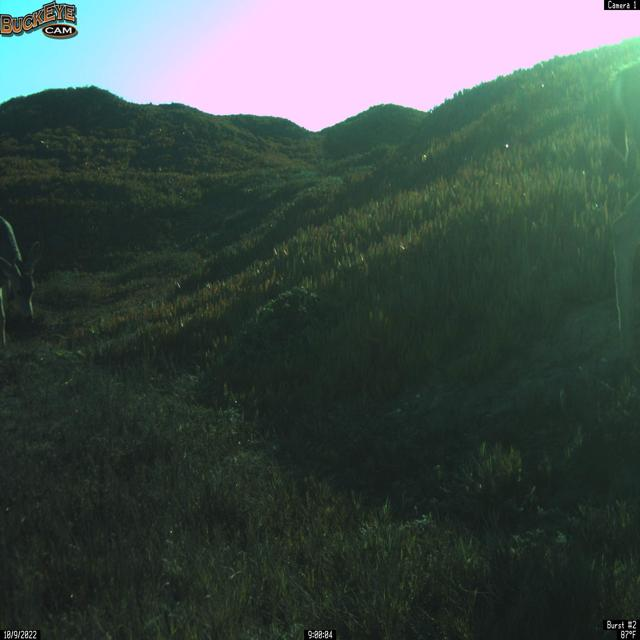deer: (0, 204, 44, 352)
